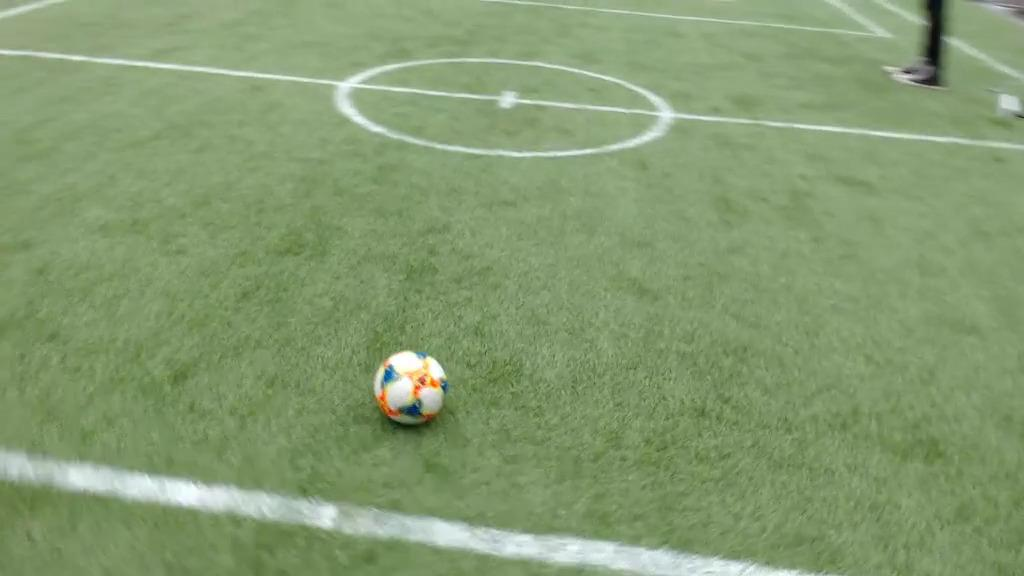ball: (362, 338, 457, 432)
